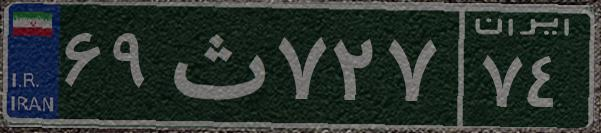2: (330, 28, 385, 110)
4: (525, 38, 570, 115)
6: (57, 26, 110, 107)
7: (385, 28, 445, 110), (273, 28, 330, 110), (475, 38, 525, 113)
9: (110, 28, 158, 105)
ث: (158, 15, 273, 115)
